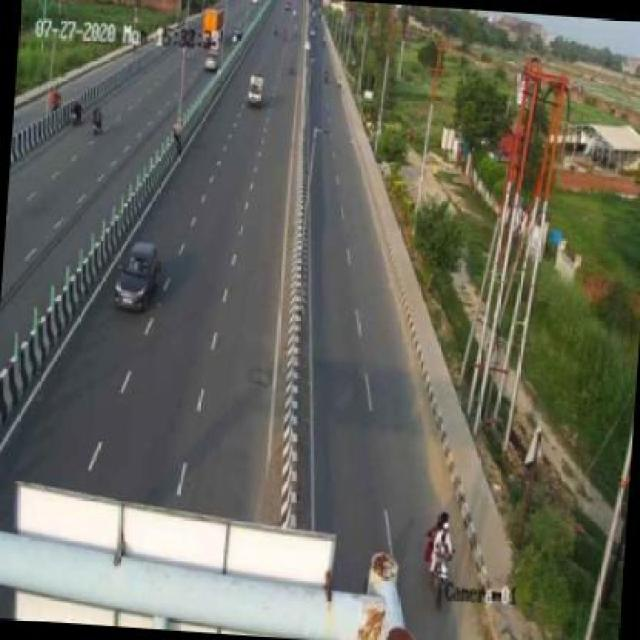car: (106, 234, 169, 326), (238, 68, 271, 112)
